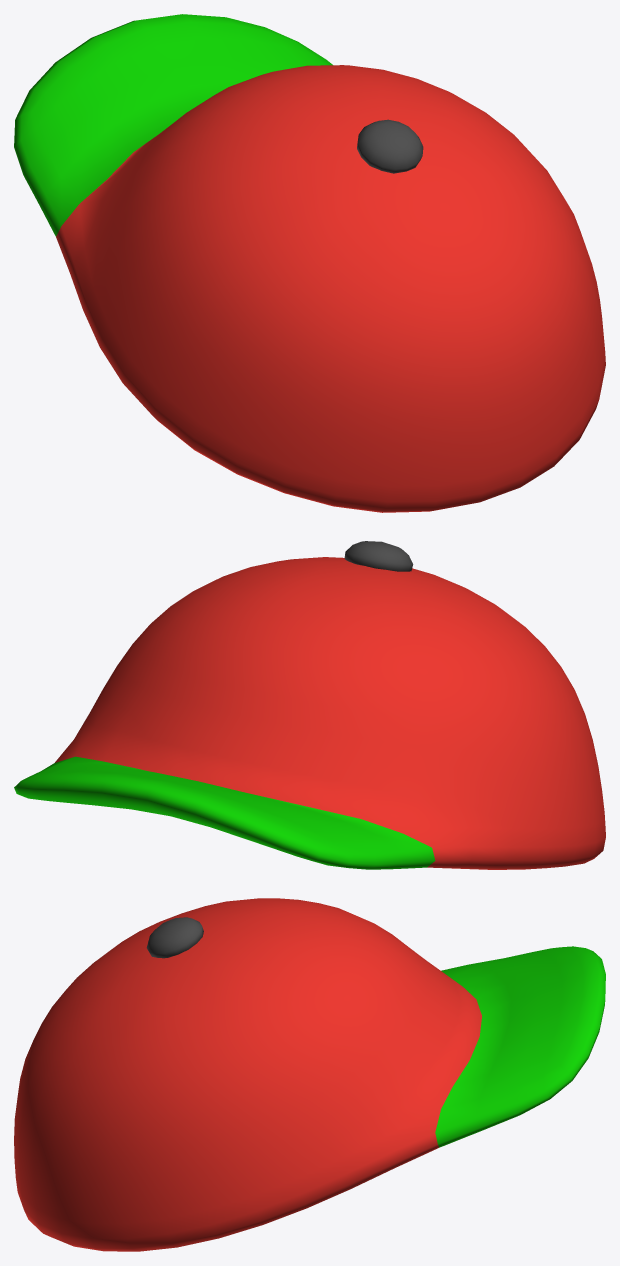
The model's file is Pet.fbx.
3 renders of one model, top to bottom at view 1: azimuth 30°, elevation 25°; view 2: azimuth 150°, elevation 25°; view 3: azimuth 270°, elevation 25°, orthographic. The views are drawn at different scales.
Visible parts, largest first — view 1: Cylinder.095; view 2: Cylinder.095; view 3: Cylinder.095.
Boxes of the visible parts, box(x1,y1,x2,y2) form: Cylinder.095: box(14, 14, 605, 512); Cylinder.095: box(14, 541, 605, 869); Cylinder.095: box(14, 898, 605, 1251).
Size of the model in its own units: 202 by 257 by 136.
